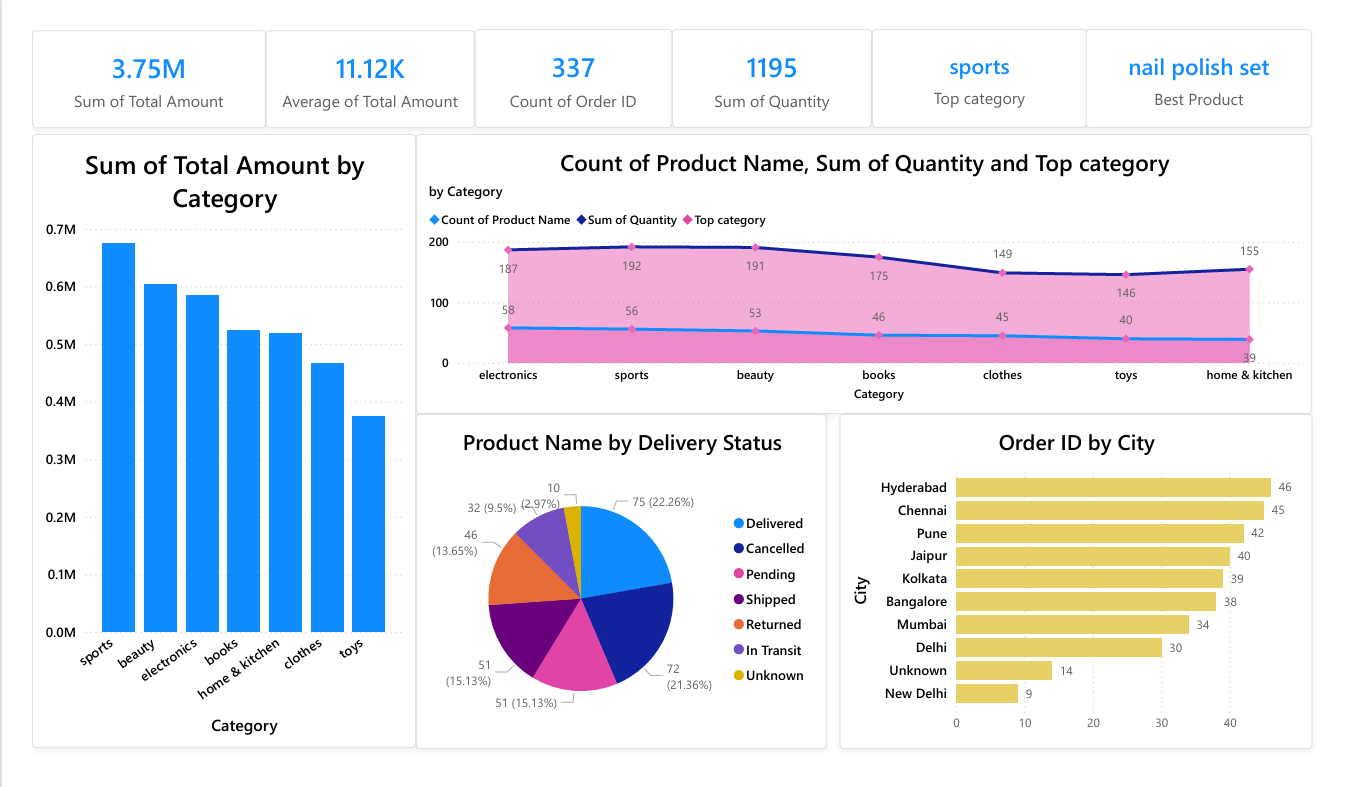

The page's visual inventory and layout, read from the dashboard file:
{"tool":"powerbi","page":{"name":"Page 2","canvas":[1280,720],"ordinal":1},"visuals":[{"type":"lineChart","fields":{"Category":["ecommerce_cleaned_data.Category"],"Y":["CountNonNull(ecommerce_cleaned_data.Product Name)","Sum(ecommerce_cleaned_data.Quantity)","ecommerce_cleaned_data.Measure 2"]},"box":[383.8,105,896.2,280],"z":0},{"type":"pieChart","fields":{"Category":["ecommerce_cleaned_data.Delivery Status"],"Y":["CountNonNull(ecommerce_cleaned_data.Product Name)"]},"box":[383.8,385,411.2,335],"z":1000},{"type":"card","fields":{"Values":["Sum(ecommerce_cleaned_data.Total Amount)"]},"box":[0,1.2,233.8,97.5],"z":2000},{"type":"card","fields":{"Values":["CountNonNull(ecommerce_cleaned_data.Order ID)"]},"box":[442.5,0,197.5,98.8],"z":3000},{"type":"card","fields":{"Values":["Avg(ecommerce_cleaned_data.Total Amount)"]},"box":[233.8,1.2,208.8,97.5],"z":4000},{"type":"card","fields":{"Values":["Sum(ecommerce_cleaned_data.Quantity)"]},"box":[640,0,200,98.8],"z":5000},{"type":"barChart","fields":{"Category":["ecommerce_cleaned_data.City"],"Y":["CountNonNull(ecommerce_cleaned_data.Order ID)"]},"box":[807.5,385,472.5,335],"z":6000},{"type":"columnChart","fields":{"Category":["ecommerce_cleaned_data.Category"],"Y":["Sum(ecommerce_cleaned_data.Total Amount)"]},"box":[0,105,383.8,613.8],"z":7000},{"type":"card","fields":{"Values":["ecommerce_cleaned_data.Measure 2"]},"box":[840,0,215,98.8],"z":8000},{"type":"card","fields":{"Values":["ecommerce_cleaned_data.Measure"]},"box":[1053.8,0,226.2,98.8],"z":9000}]}

Visuals, with their boxes in screenshot pixels (x1, y1, x2, y2), scaled from the page's 1280x720 canvas onto the 1362x787 screenshot:
lineChart - ecommerce_cleaned_data.Category x CountNonNull(ecommerce_cleaned_data.Product Name): [408, 115, 1361, 421]
pieChart - ecommerce_cleaned_data.Delivery Status x CountNonNull(ecommerce_cleaned_data.Product Name): [408, 421, 846, 786]
card - Sum(ecommerce_cleaned_data.Total Amount): [0, 1, 249, 108]
card - CountNonNull(ecommerce_cleaned_data.Order ID): [471, 0, 681, 108]
card - Avg(ecommerce_cleaned_data.Total Amount): [249, 1, 471, 108]
card - Sum(ecommerce_cleaned_data.Quantity): [681, 0, 894, 108]
barChart - ecommerce_cleaned_data.City x CountNonNull(ecommerce_cleaned_data.Order ID): [859, 421, 1361, 786]
columnChart - ecommerce_cleaned_data.Category x Sum(ecommerce_cleaned_data.Total Amount): [0, 115, 408, 786]
card - ecommerce_cleaned_data.Measure 2: [894, 0, 1123, 108]
card - ecommerce_cleaned_data.Measure: [1121, 0, 1361, 108]
